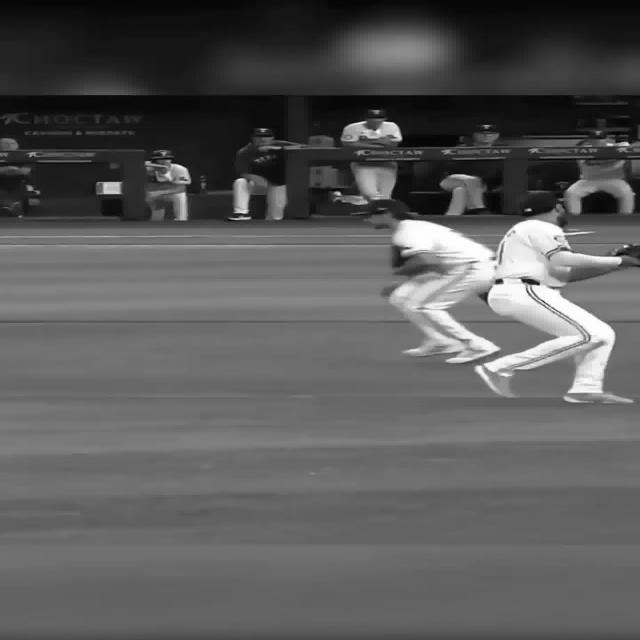shoe: (473, 364, 518, 398), (444, 345, 500, 364), (400, 343, 462, 357), (561, 392, 633, 404), (609, 243, 639, 257), (225, 213, 251, 221)
